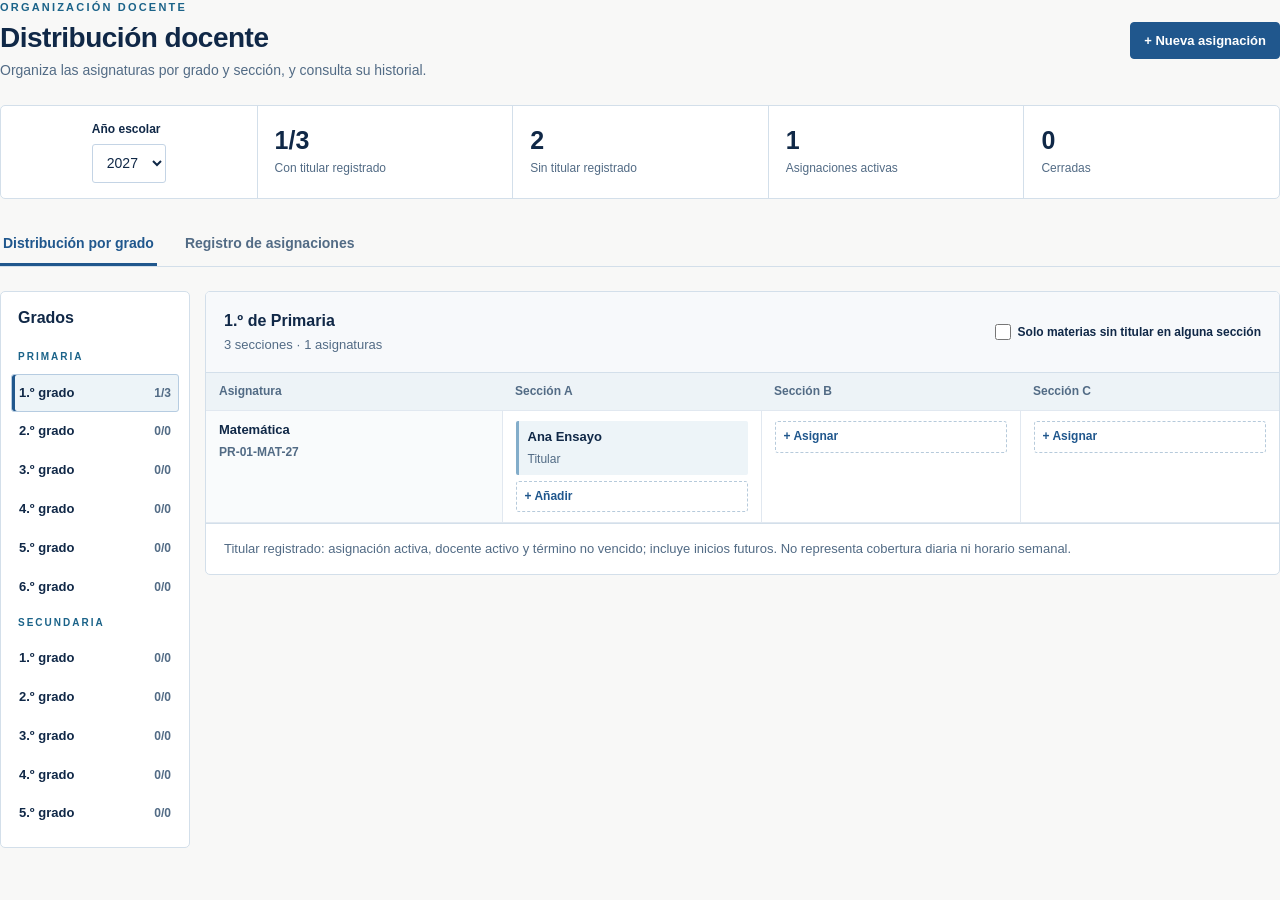
Test: Asignaciones docentes › consulta historial, cierra explícitamente y no confunde cierre con eliminación
Click the button "Registro de asignaciones". click: x=270, y=244
box: [182, 222, 358, 266]
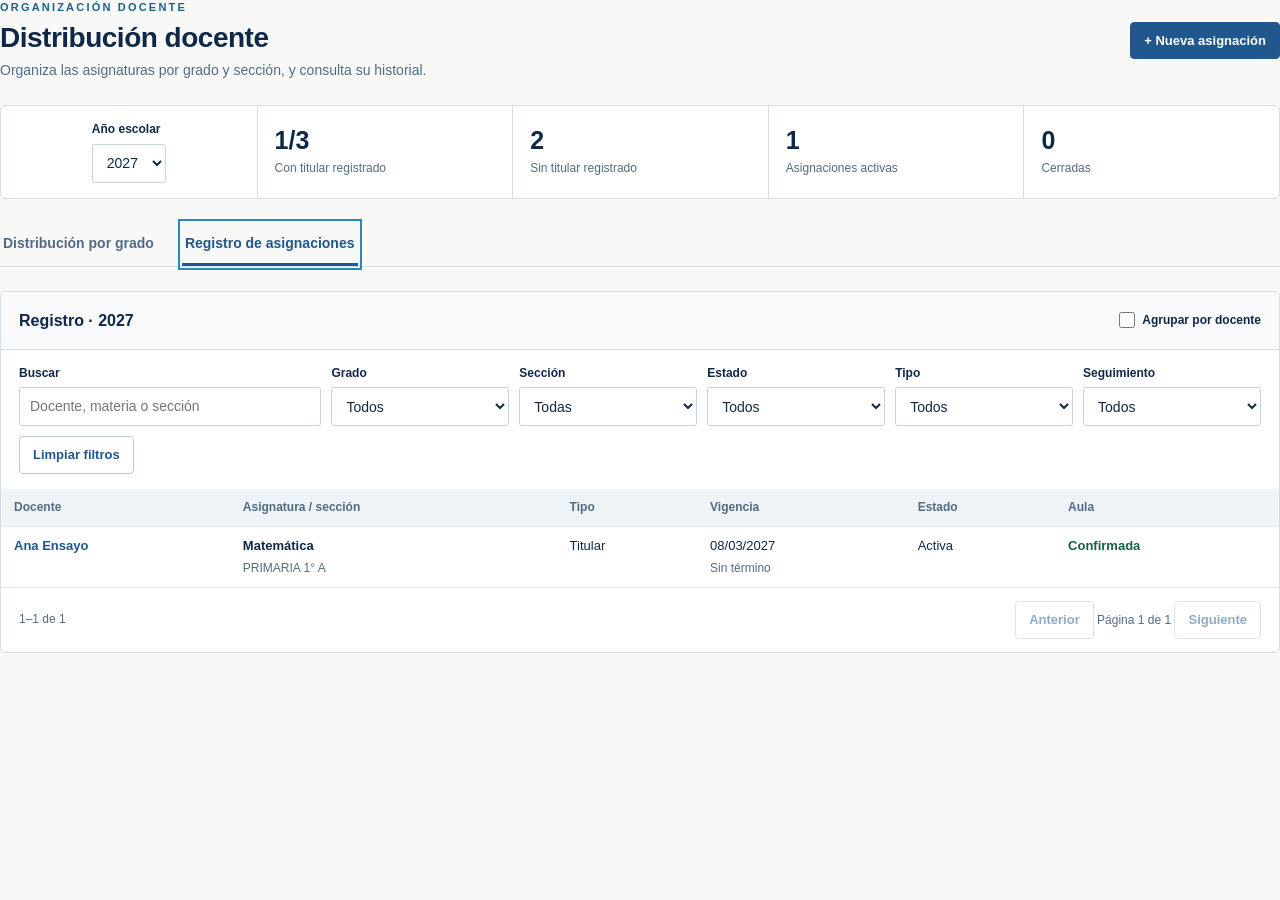
Click the button "Ana Ensayo". click: x=51, y=547
box: [14, 537, 88, 556]
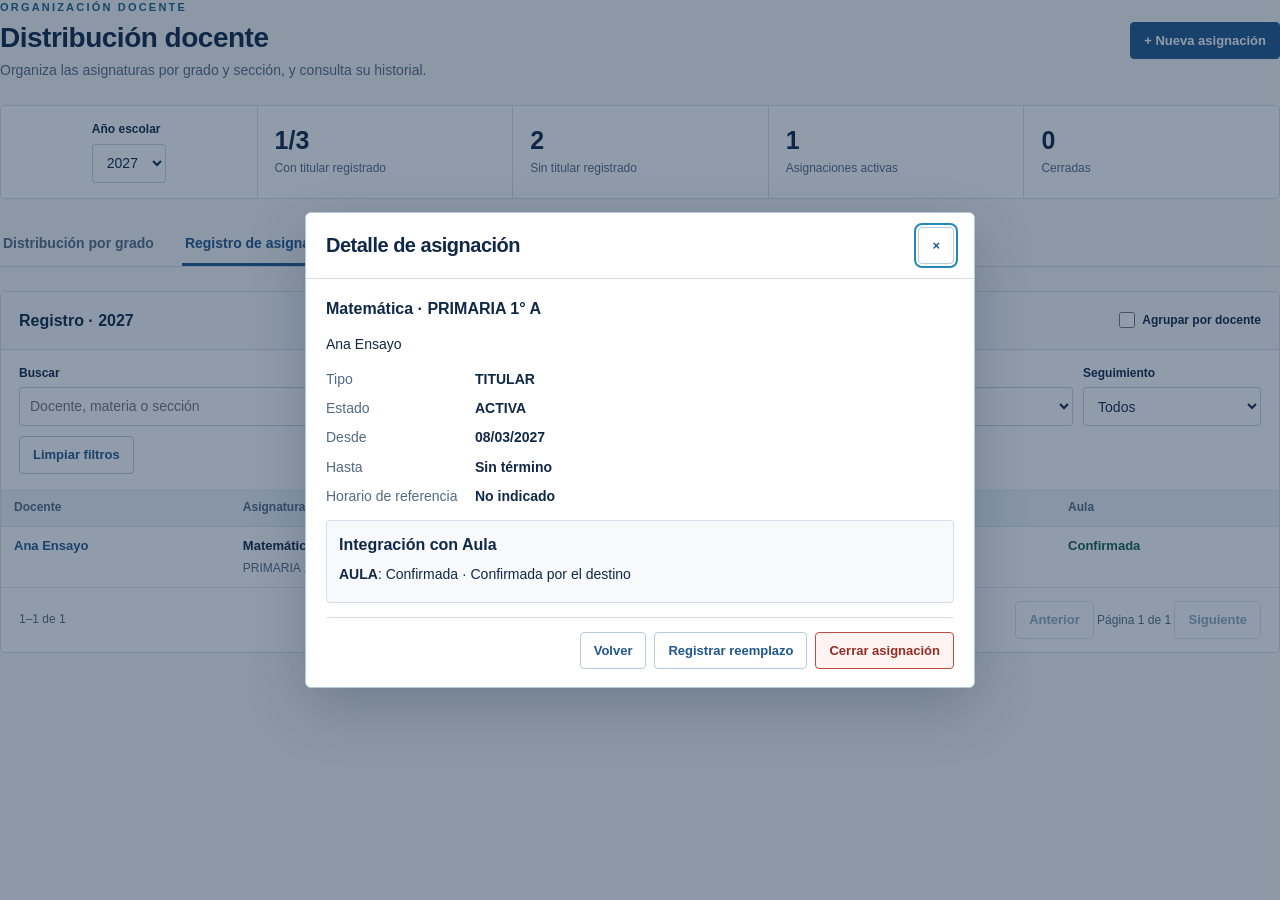
Click the button "Cerrar asignación". click: x=885, y=650
box: [816, 632, 954, 669]
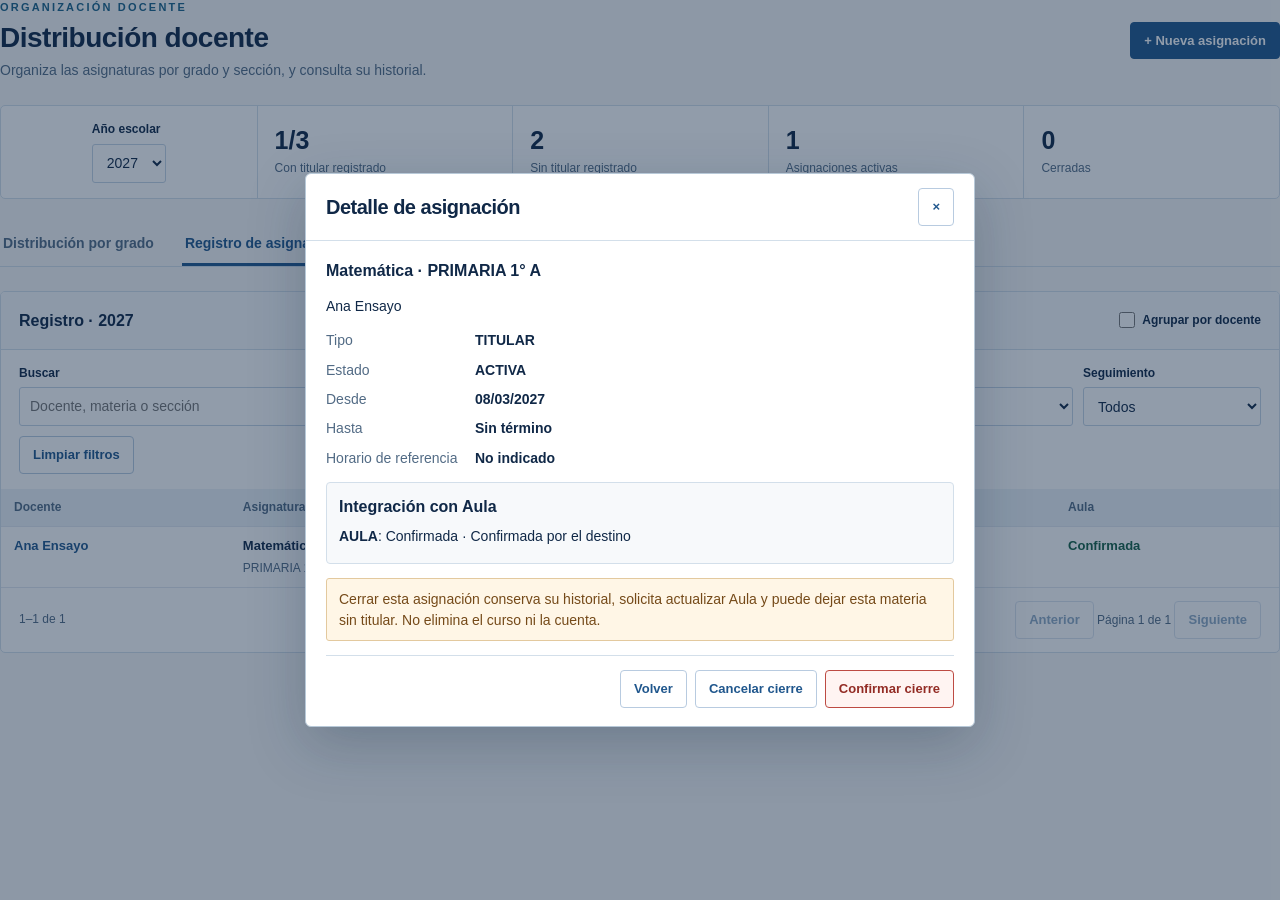
Click the button "Confirmar cierre". click: x=889, y=689
box: [825, 670, 954, 708]
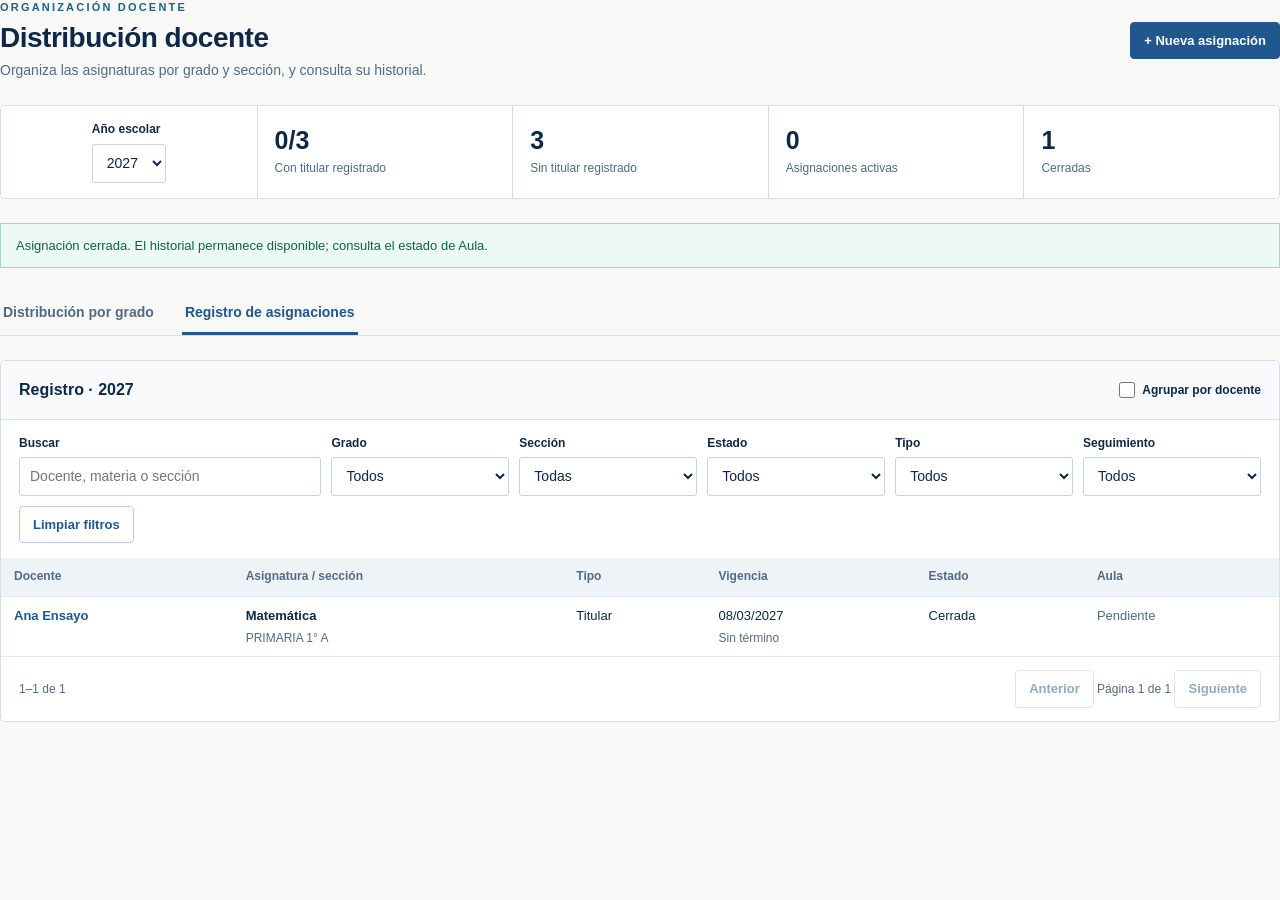
Now the text "Cerrada" is shown, box [916, 596, 1084, 657]
